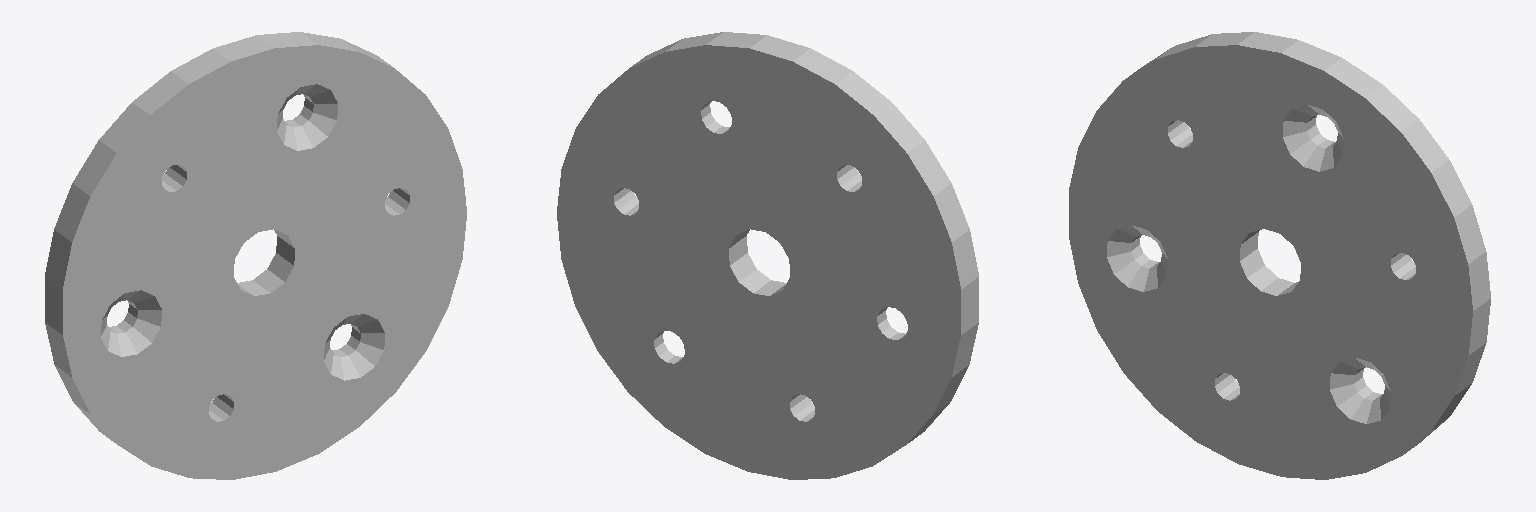
3 views of the same model, side by side, from view 1: azimuth 30°, elevation 25°; view 2: azimuth 150°, elevation 25°; view 3: azimuth 330°, elevation 25° (orthographic).
Parts seen in each view (by area): view 1: W_WristRot.002; view 2: W_WristRot.002; view 3: W_WristRot.002.
Boxes of the visible parts, <box> form: W_WristRot.002: <box>45,32,466,479</box>; W_WristRot.002: <box>557,32,978,479</box>; W_WristRot.002: <box>1069,32,1490,479</box>.
Bounding box in the file's own units: 3.87 × 3.88 × 0.3.